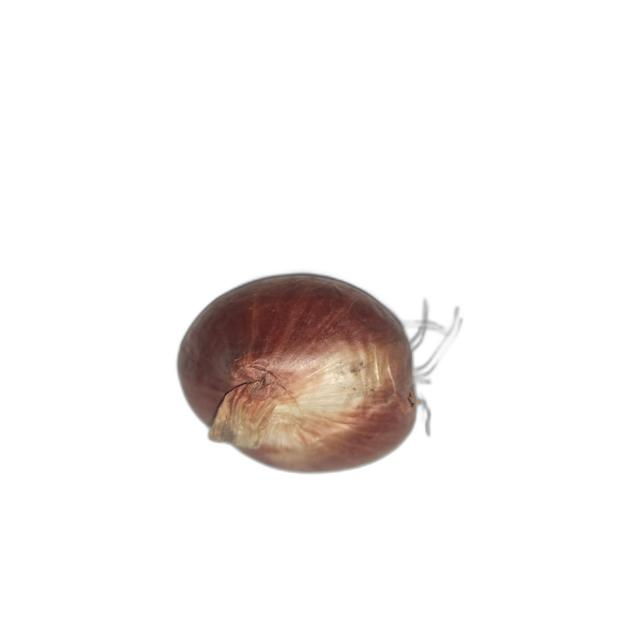onion: (178, 273, 429, 474)
